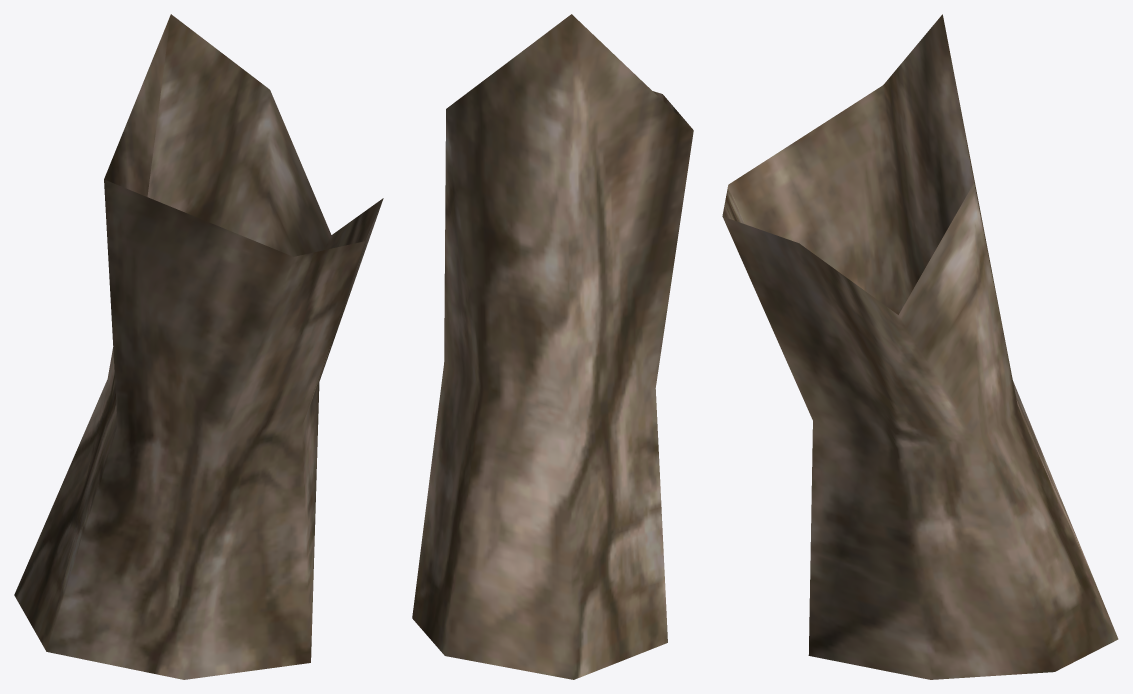
The model's file is EKH_GROTTO_PS_GR_OBJECT384.fbx.
3 renders of one model, left to right at view 1: azimuth 30°, elevation 25°; view 2: azimuth 150°, elevation 25°; view 3: azimuth 270°, elevation 25°, orthographic. The views are drawn at different scales.
Parts seen in each view (by area): view 1: EKH_GROTTO_PS_GR_OBJECT384; view 2: EKH_GROTTO_PS_GR_OBJECT384; view 3: EKH_GROTTO_PS_GR_OBJECT384.
Boxes of the visible parts, bbox=[...] form: EKH_GROTTO_PS_GR_OBJECT384: bbox=[14, 14, 383, 679]; EKH_GROTTO_PS_GR_OBJECT384: bbox=[412, 14, 693, 679]; EKH_GROTTO_PS_GR_OBJECT384: bbox=[722, 14, 1118, 679].
Bounding box in the file's own units: 10058 × 23574 × 13882.
Materials: 1 (1 with a texture image).
